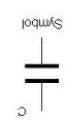Capacitor: (19, 53, 63, 88)
